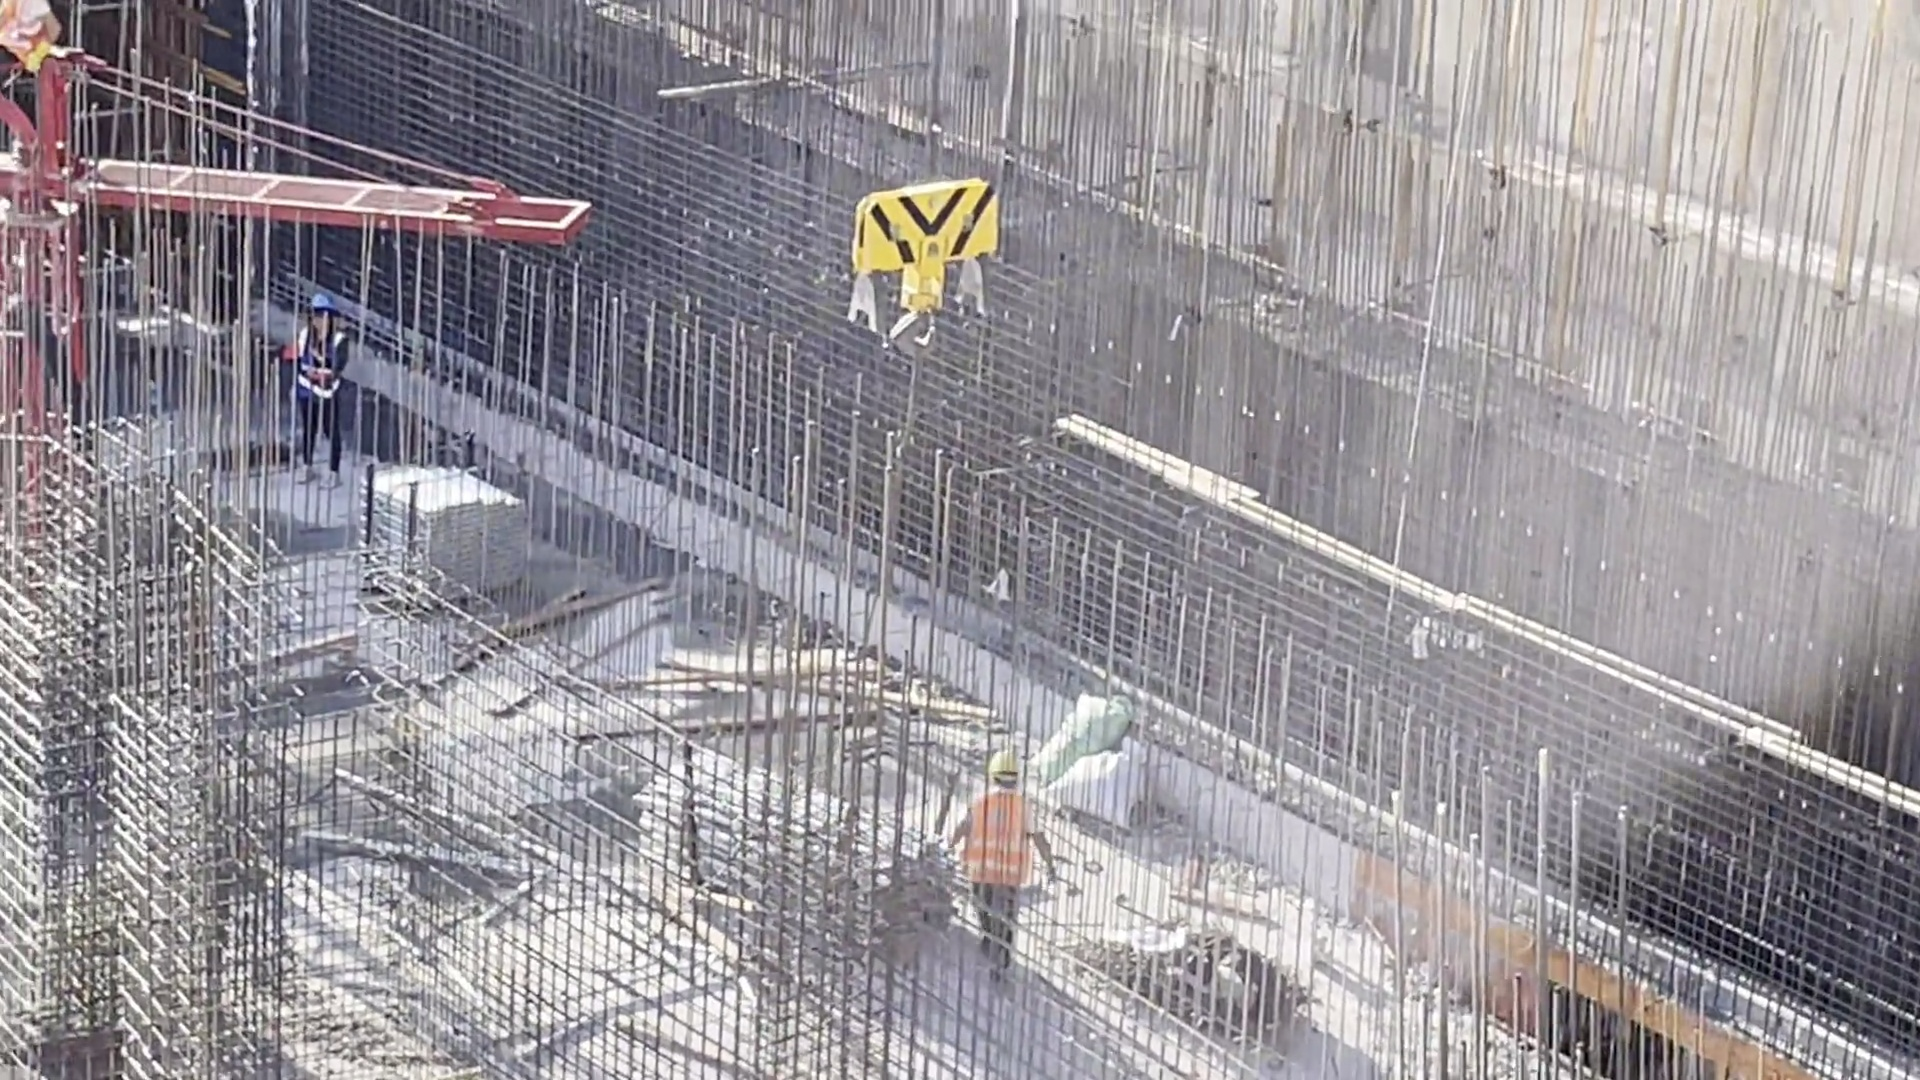helmet: (293, 283, 341, 319), (993, 741, 1026, 787)
person: (952, 746, 1051, 986), (280, 291, 369, 490)
vest: (961, 784, 1025, 883), (2, 1, 62, 69), (294, 324, 341, 403)
